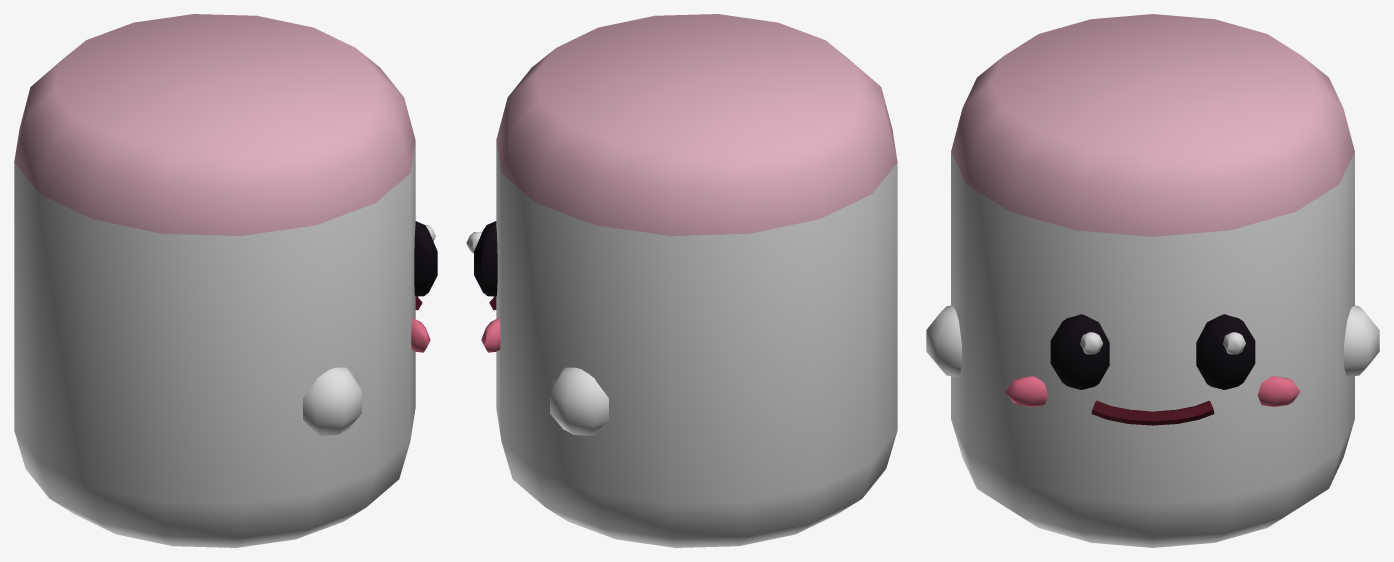
Rendered from marshmallow.glb.
3 views of the same model, side by side, from view 1: azimuth 30°, elevation 25°; view 2: azimuth 150°, elevation 25°; view 3: azimuth 270°, elevation 25° (orthographic).
Visible parts, largest first — view 1: marshmallow; view 2: marshmallow; view 3: marshmallow.
Part boxes in pixels (bbox=[...]): marshmallow: bbox=[14, 14, 437, 547]; marshmallow: bbox=[466, 14, 897, 547]; marshmallow: bbox=[926, 14, 1379, 547].
Size of the model in its own units: 0.4382 by 0.46 by 0.4761.
